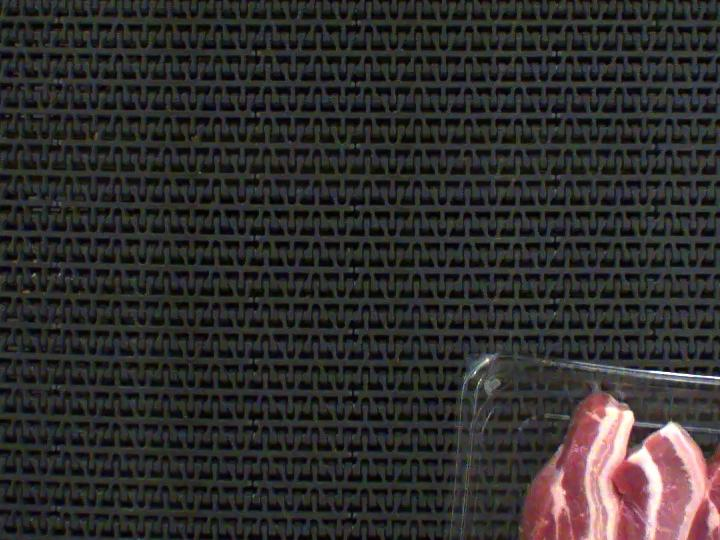packaging-error: (579, 367, 617, 394)
